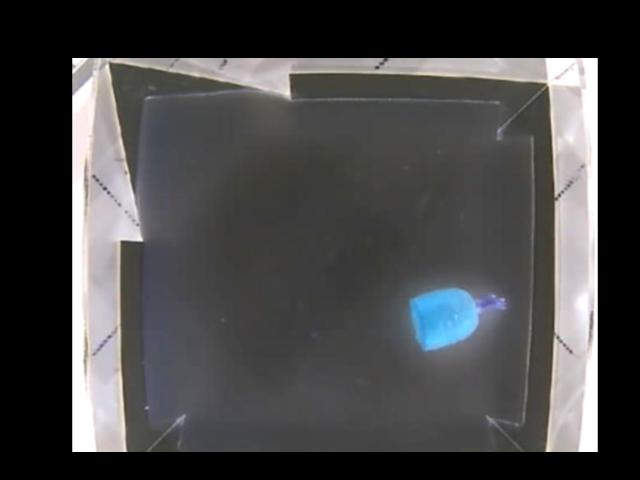Carrot: (410, 289, 507, 344)
